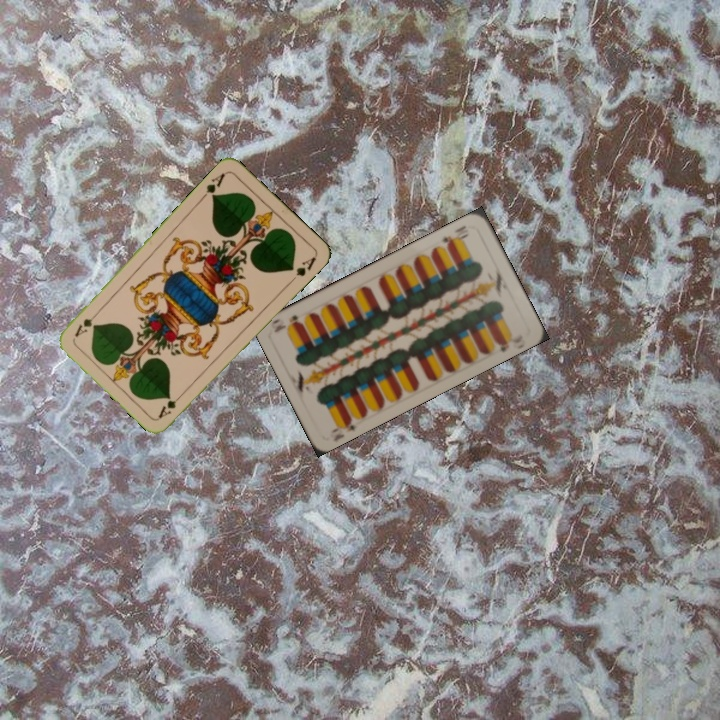E10: (327, 413, 363, 442), (436, 221, 471, 250)
GA: (154, 388, 187, 421), (197, 168, 228, 202)
